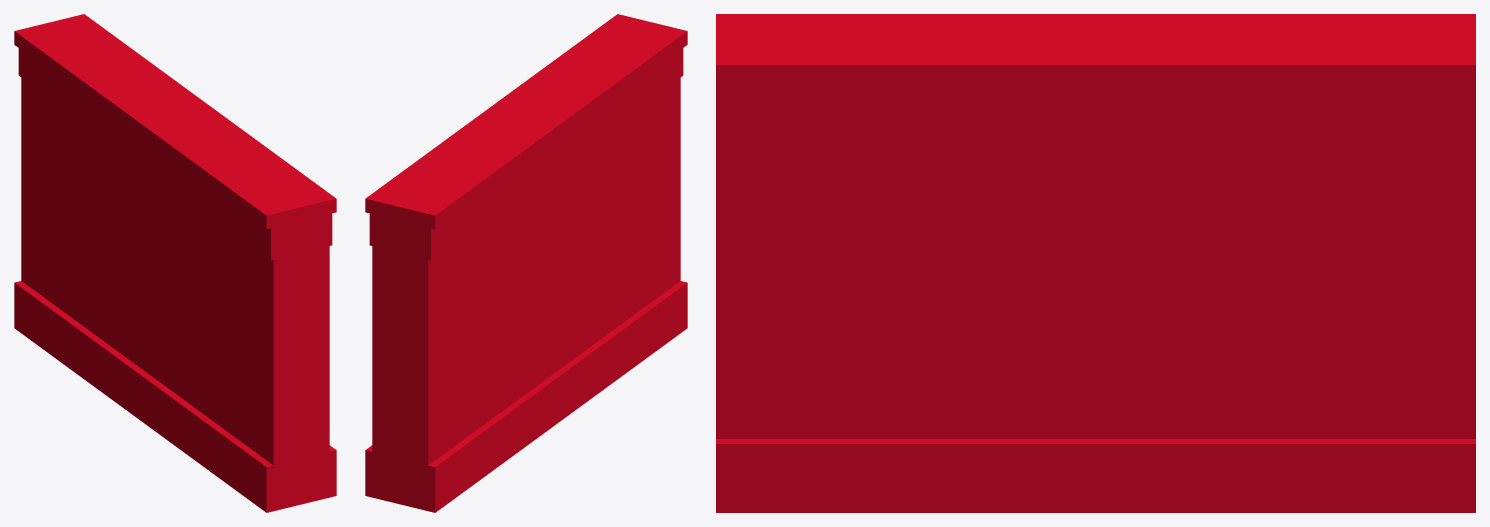
Rendered from SM_doorfront_side.fbx.
3 views of the same model, side by side, from view 1: azimuth 30°, elevation 25°; view 2: azimuth 150°, elevation 25°; view 3: azimuth 270°, elevation 25° (orthographic). The views are drawn at different scales.
Parts seen in each view (by area): view 1: SM_doorfront_side; view 2: SM_doorfront_side; view 3: SM_doorfront_side.
Boxes of the visible parts, x1,y1,x2,y2 form: SM_doorfront_side: (14, 14, 336, 512); SM_doorfront_side: (365, 14, 687, 512); SM_doorfront_side: (716, 14, 1475, 512).
Size of the model in its own units: 16 by 65 by 100.
